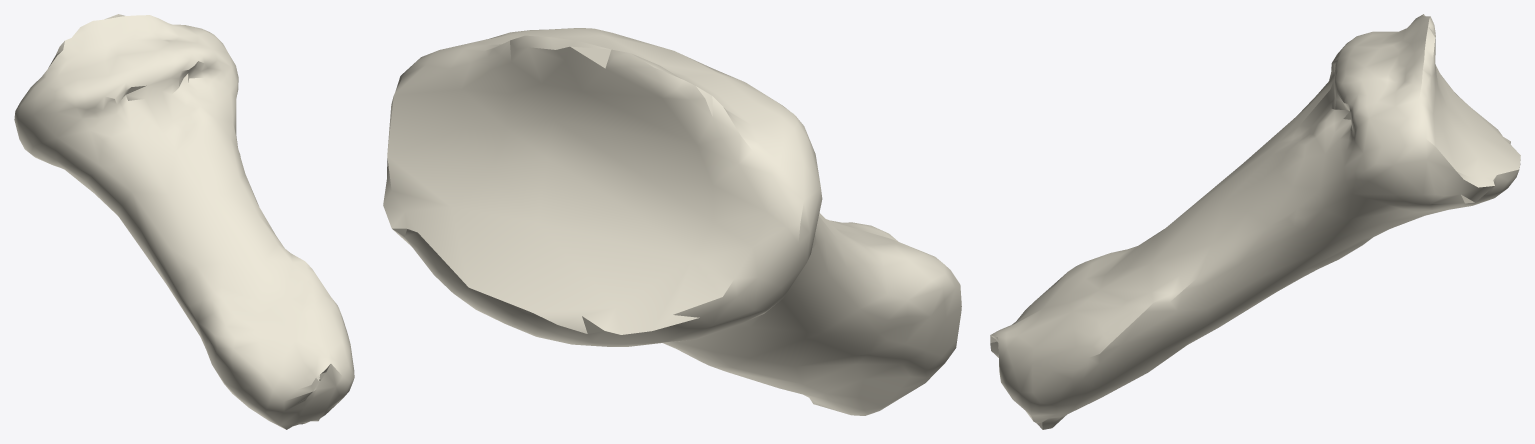
Rendered from fma23955_mm1894m.glb.
3 renders of one model, left to right at view 1: azimuth 30°, elevation 25°; view 2: azimuth 150°, elevation 25°; view 3: azimuth 270°, elevation 25°, orthographic. The views are drawn at different scales.
Visible parts, largest first — view 1: FMA23955_MM1894M; view 2: FMA23955_MM1894M; view 3: FMA23955_MM1894M.
Boxes of the visible parts, box(x1,y1,x2,y2) form: FMA23955_MM1894M: box(14, 14, 354, 429); FMA23955_MM1894M: box(383, 28, 961, 415); FMA23955_MM1894M: box(990, 14, 1520, 429).
Size of the model in its own units: 0.0096 by 0.0135 by 0.0175.
